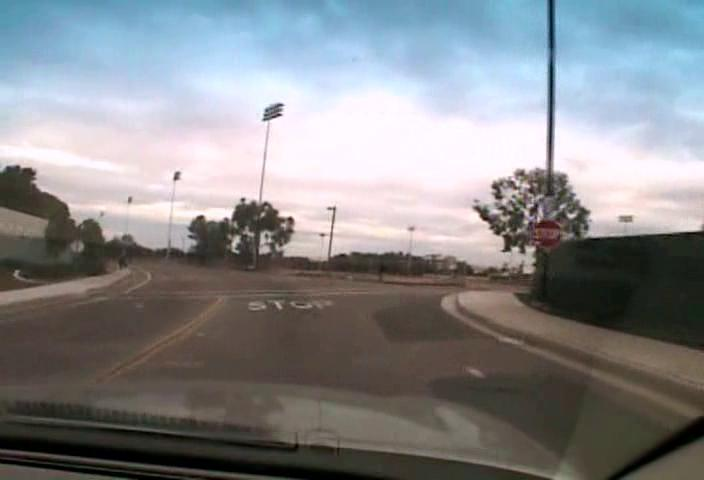stop: (531, 219, 562, 248)
